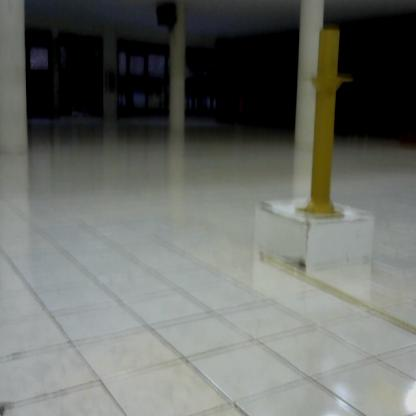pole: (299, 25, 358, 223)
